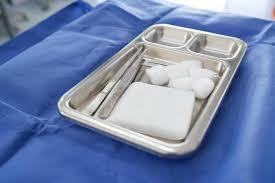cotton: (0, 0, 274, 182), (109, 82, 194, 139), (168, 65, 218, 98), (145, 60, 201, 84), (168, 77, 214, 98), (165, 60, 201, 79), (192, 78, 214, 98), (145, 65, 168, 84), (189, 68, 218, 81), (165, 64, 188, 79), (168, 77, 192, 90), (180, 60, 202, 67)
